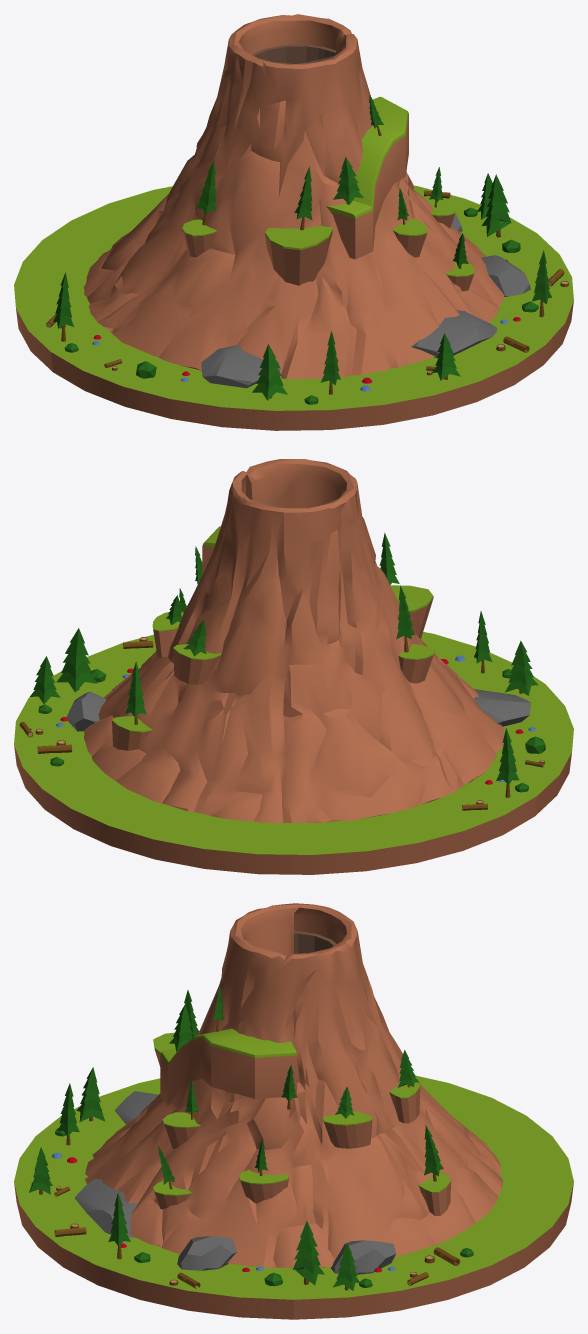
File: Filling Island.fbx
3 views of the same model, one above another, from view 1: azimuth 30°, elevation 25°; view 2: azimuth 150°, elevation 25°; view 3: azimuth 270°, elevation 25° (orthographic).
Visible parts, largest first — view 1: Other Part, Base; view 2: Base, Other Part; view 3: Other Part, Base.
Part boxes in pixels (x1,y1,x2,y2): Other Part: (51, 27, 573, 430); Base: (14, 14, 536, 371); Base: (14, 472, 536, 874); Other Part: (52, 459, 573, 815); Other Part: (14, 903, 297, 1319); Base: (292, 903, 573, 1319).
Size of the model in its own units: 101 by 54.78 by 101.
